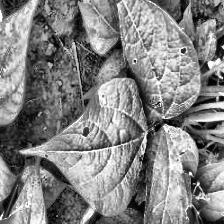ALS: (24, 80, 147, 214), (118, 0, 199, 122), (0, 0, 29, 126)
